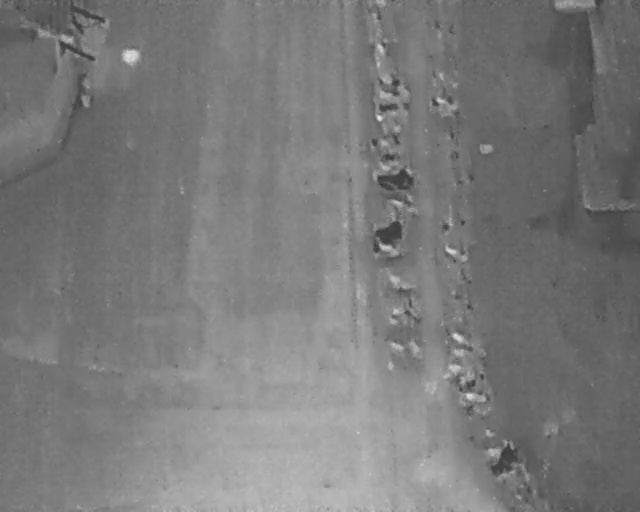Bicycle: (366, 217, 411, 256), (485, 440, 525, 482), (381, 329, 424, 360), (379, 270, 423, 299), (381, 188, 421, 217), (375, 168, 417, 193), (455, 367, 488, 397), (440, 238, 474, 266), (365, 130, 402, 152), (436, 357, 465, 385), (447, 329, 479, 354), (388, 302, 422, 324), (375, 97, 412, 116), (374, 74, 407, 94), (427, 91, 459, 111), (457, 389, 489, 406), (375, 149, 403, 168)
